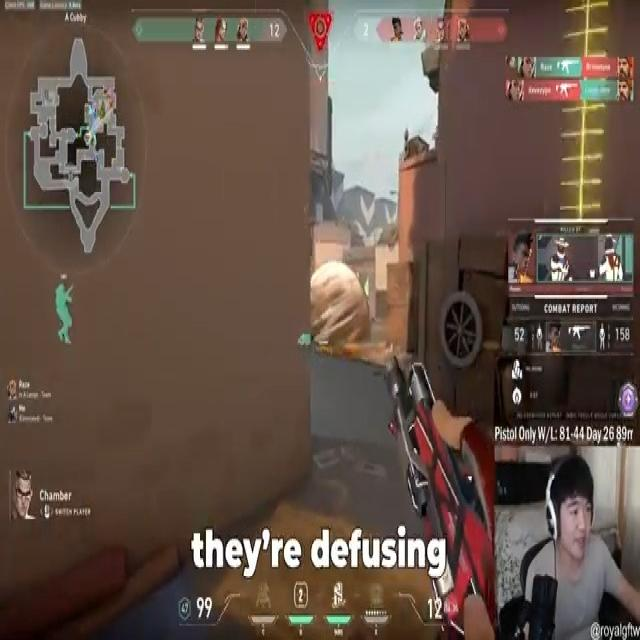ally behind wall: (50, 276, 76, 352)
smoke: (308, 260, 371, 352)
